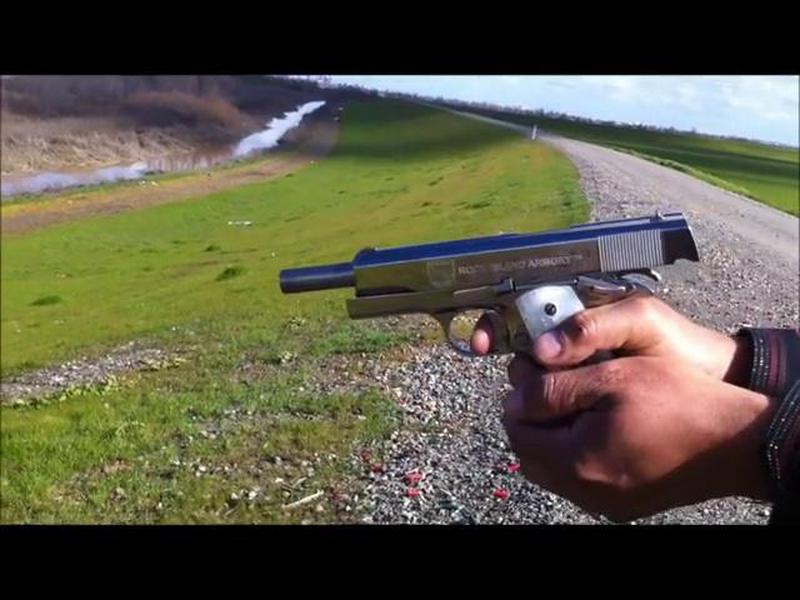Pistola: (258, 194, 709, 432)
